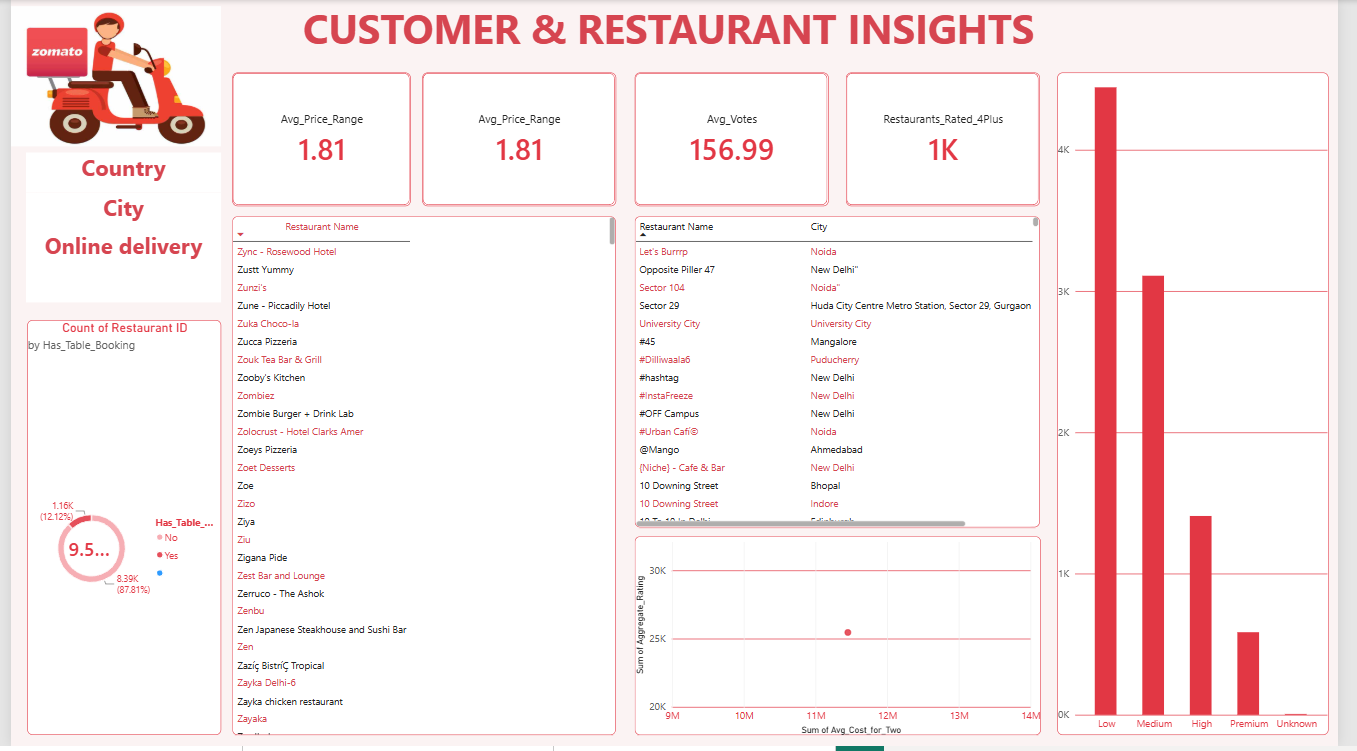

What the dashboard file says about the page in this screenshot:
{"tool":"powerbi","page":{"name":"CUSTOMER & RESTAURANT INSIGHTS","canvas":[1920,1080],"ordinal":1},"visuals":[{"type":"cardVisual","fields":{"Data":["zomato.Restaurants_Rated_4Plus"]},"box":[1208.9,105,280.5,193.6],"z":0},{"type":"cardVisual","fields":{"Data":["zomato.Avg_Votes"]},"box":[903,105,280.5,193.6],"z":1000},{"type":"tableEx","fields":{"Values":["zomato.Restaurant Name","zomato.City","Country.Country_Name"]},"box":[903,313.1,586.3,450.6],"z":2000},{"type":"scatterChart","fields":{"X":["Sum(zomato.Avg_Cost_for_Two)"],"Y":["Sum(zomato.Aggregate_Rating)"]},"box":[903,776.3,588.1,287.7],"z":3000},{"type":"donutChart","fields":{"Category":["zomato.Has_Table_Booking"],"Y":["CountNonNull(zomato.Restaurant ID)"]},"box":[23.5,463.3,280.5,600.8],"z":4000},{"type":"clusteredColumnChart","fields":{"Category":["zomato.Price_Category"],"Y":["CountNonNull(zomato.Restaurant ID)"]},"box":[1514.7,105,392.7,959.1],"z":5000},{"type":"cardVisual","fields":{"Data":["zomato.Avg_Price_Range"]},"box":[320.3,105,258.8,193.6],"z":6000},{"type":"textbox","box":[39.8,0,1824.1,92.3],"z":7000},{"type":"image","box":[0,0,304,220.8],"z":8000},{"type":"textbox","box":[21.7,220.8,282.3,57.9],"z":9000},{"type":"textbox","box":[21.7,278.7,282.3,54.3],"z":10000},{"type":"textbox","box":[21.7,333,282.3,105],"z":11000},{"type":"tableEx","fields":{"Values":["zomato.Restaurant Name"]},"box":[320.3,313.1,555.6,751],"z":12000},{"type":"cardVisual","fields":{"Data":["zomato.Avg_Price_Range"]},"box":[595.4,105,280.5,193.6],"z":14000}]}

Visuals, with their boxes in screenshot pixels (x1, y1, x2, y2), scaled from the page's 1920x1080 canvas onto the 1357x751 screenshot:
cardVisual - zomato.Restaurants_Rated_4Plus: (854,73,1053,208)
cardVisual - zomato.Avg_Votes: (638,73,836,208)
tableEx - zomato.Restaurant Name x zomato.City: (638,218,1053,531)
scatterChart - Sum(zomato.Avg_Cost_for_Two) x Sum(zomato.Aggregate_Rating): (638,540,1054,740)
donutChart - zomato.Has_Table_Booking x CountNonNull(zomato.Restaurant ID): (17,322,215,740)
clusteredColumnChart - zomato.Price_Category x CountNonNull(zomato.Restaurant ID): (1071,73,1348,740)
cardVisual - zomato.Avg_Price_Range: (226,73,409,208)
textbox: (28,0,1317,64)
image: (0,0,215,154)
textbox: (15,154,215,194)
textbox: (15,194,215,232)
textbox: (15,232,215,305)
tableEx - zomato.Restaurant Name: (226,218,619,740)
cardVisual - zomato.Avg_Price_Range: (421,73,619,208)
